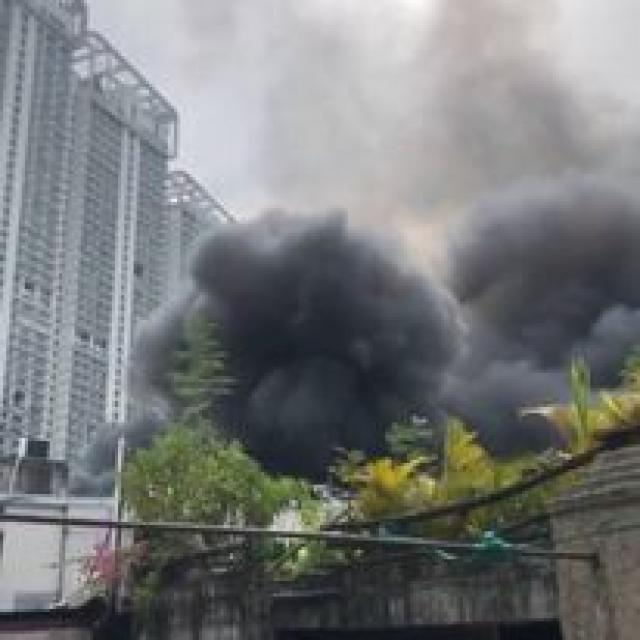Smoke: (428, 34, 640, 447), (188, 238, 446, 445)
